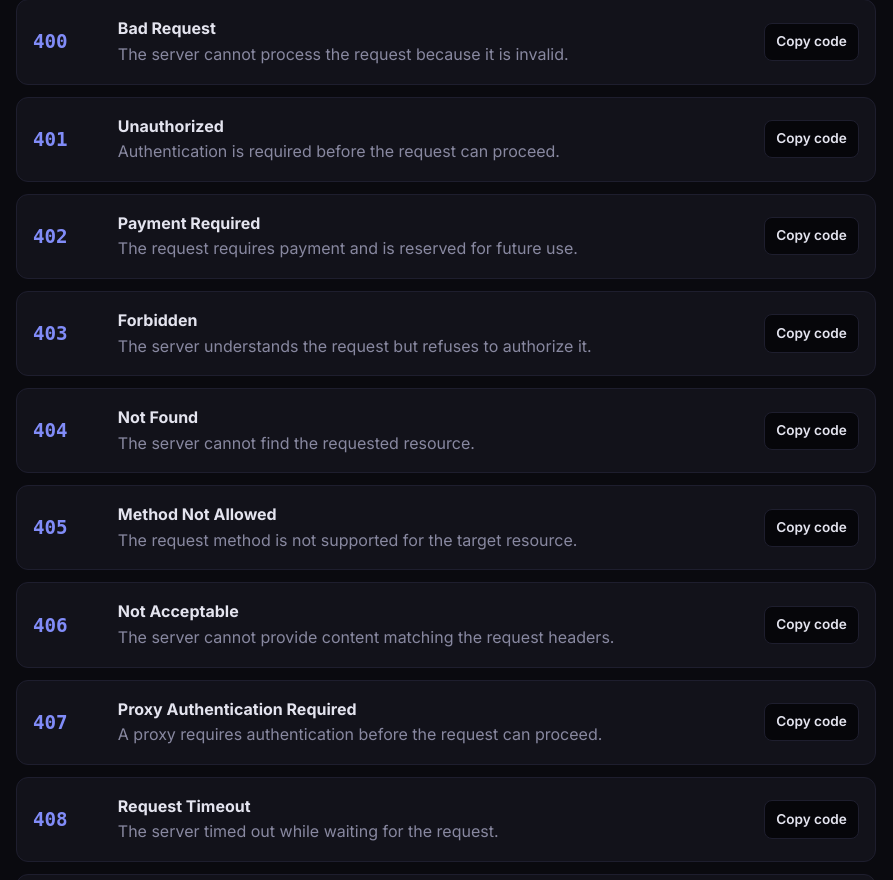
Test: HttpStatusTool › copies a numeric code and announces success
(page scrolled)
Click the button with aria-label "Copy status code 404" at [812, 431], box [764, 412, 859, 450]
(page scrolled)
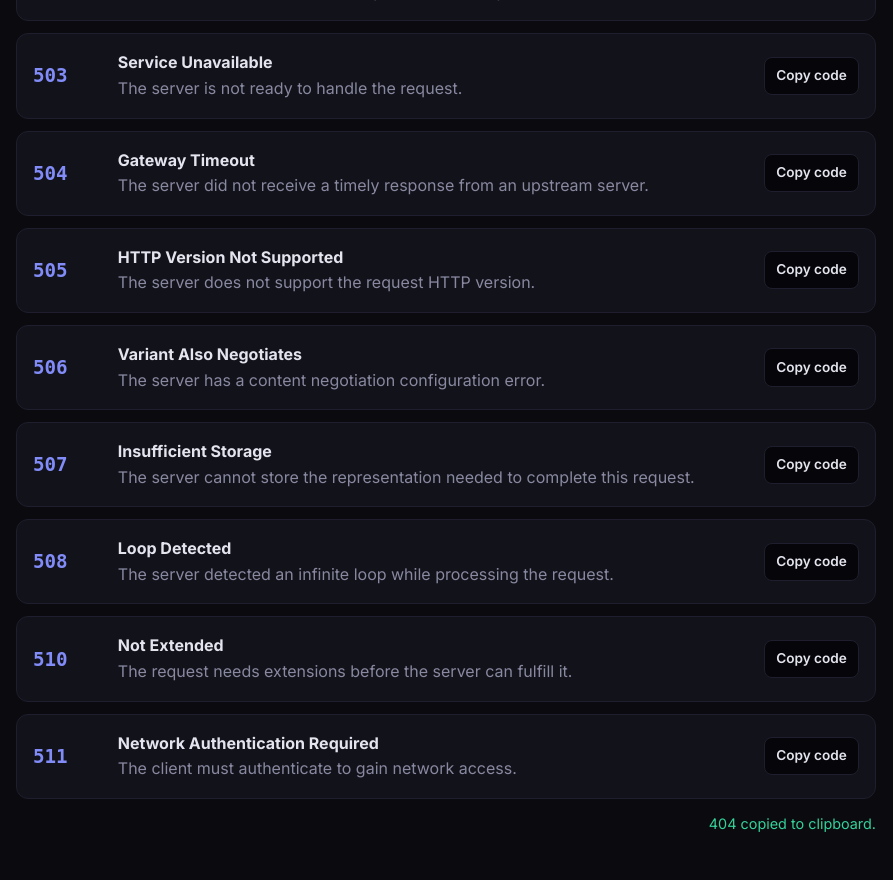
Check: the message reads "404 copied to clipboard.", box [709, 815, 876, 832]
